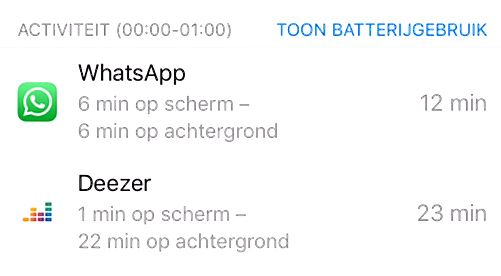activity: (9, 17, 244, 49)
app: (12, 60, 497, 149), (6, 163, 491, 252)
